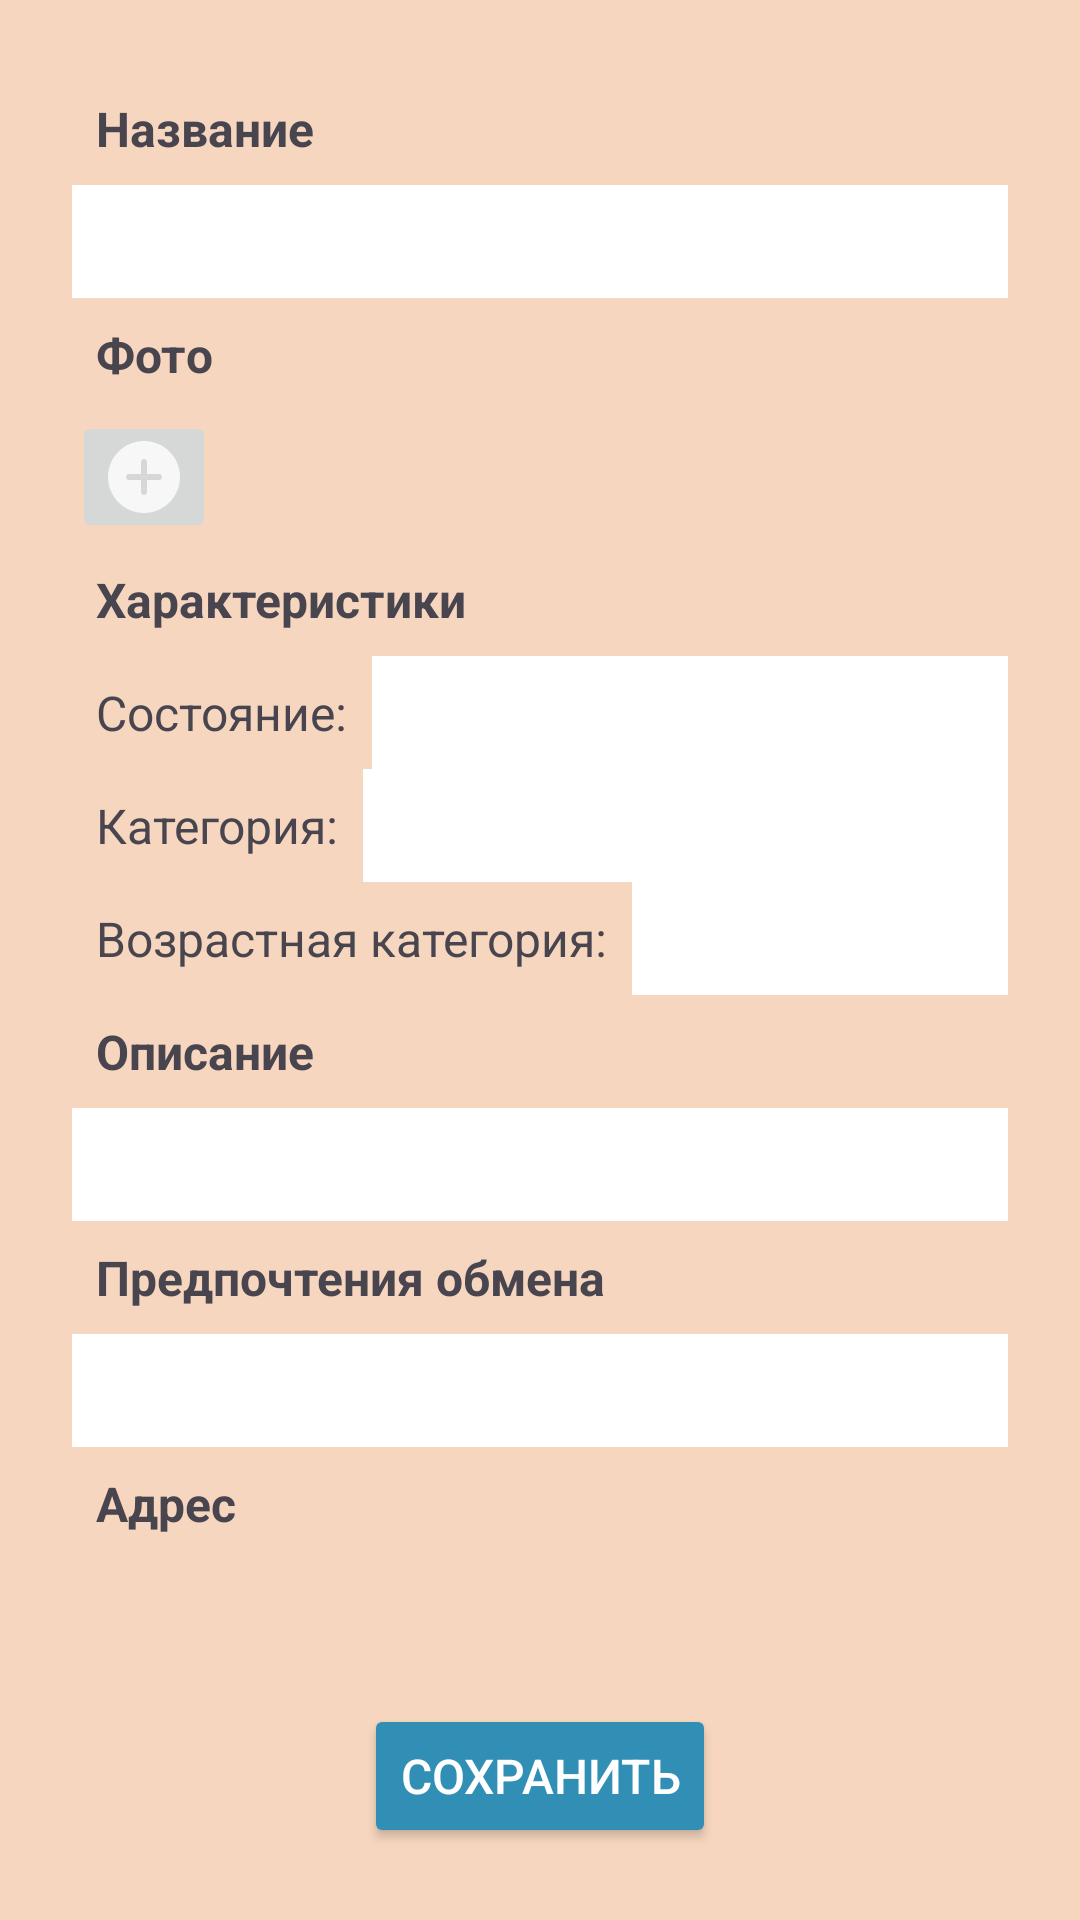

Icon click points for this 1080px×1920px phone screenshot, format (x,y):
add: (144,477)
